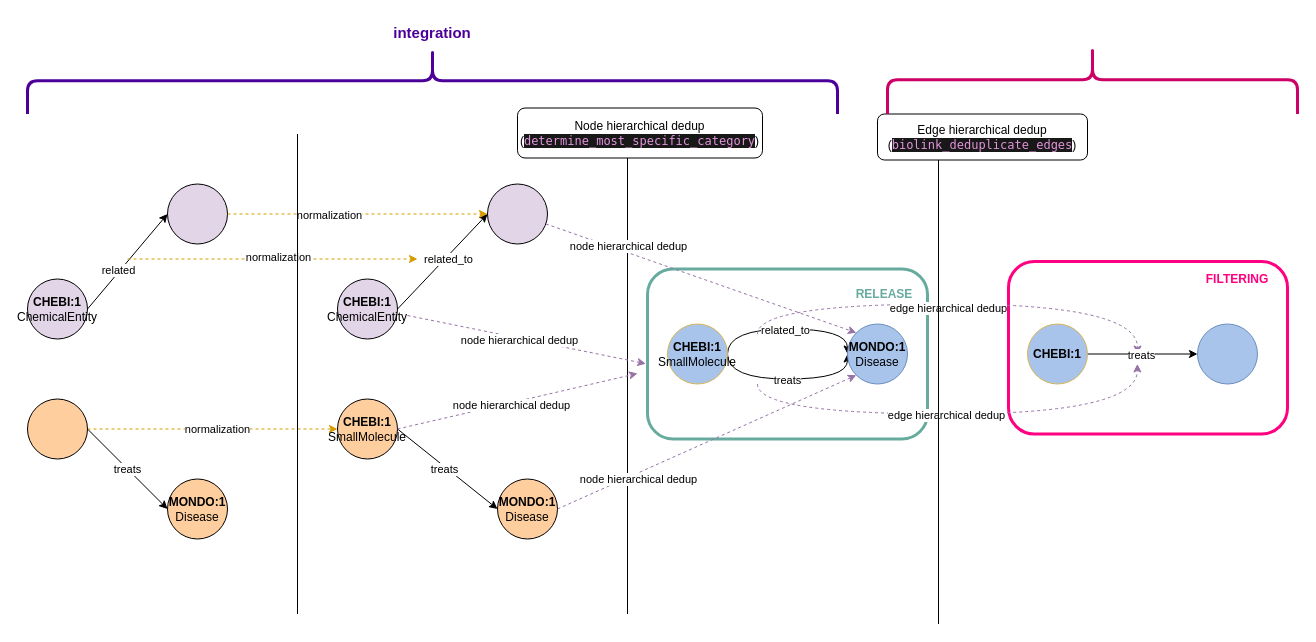
This 1316x642 diagram has some shape labels left out. Each missing label, with the centre of its shape:
"CHEMBL:1 SmallMolecule" belongs at (57,428).
"MONDO:1" belongs at (1227,353).
"MONDO:1 DiseaseOrPhenotypicFeature" belongs at (517,213).
"UMLS:1 DiseaseOrPhenotypicFeature" belongs at (197,213).
